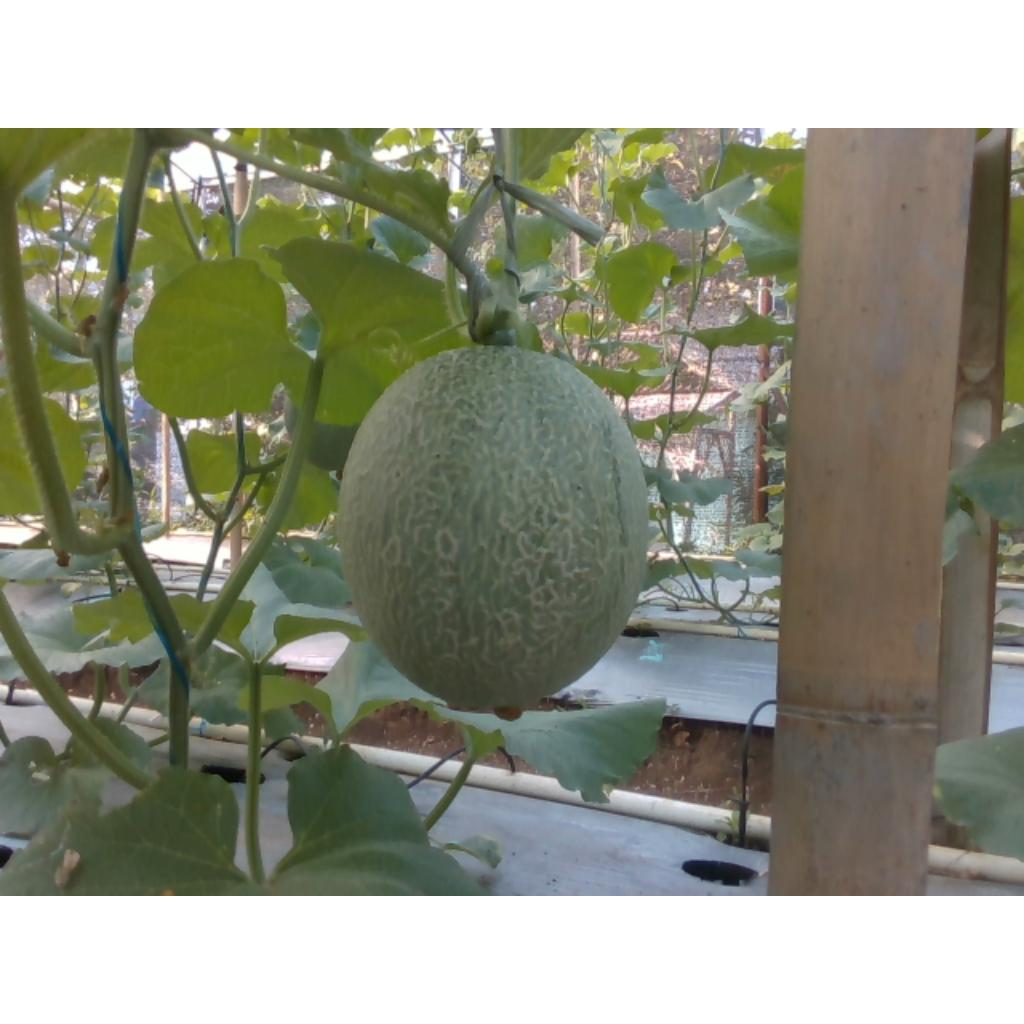melon: (339, 346, 648, 710)
